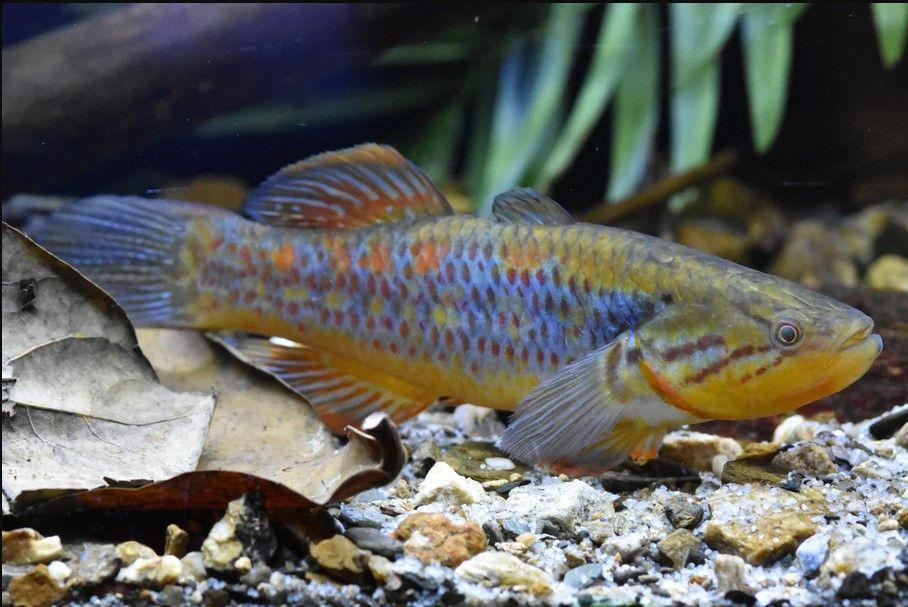Goby: (37, 170, 887, 461)
